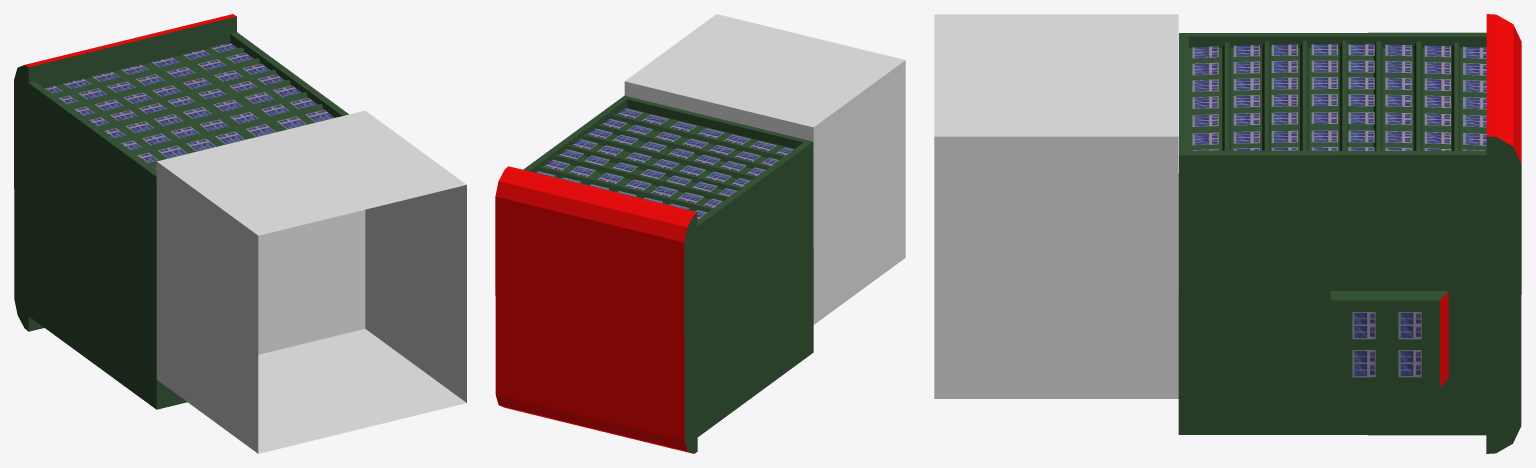
Rendered from block_fat_01.FBX.
3 views of the same model, side by side, from view 1: azimuth 30°, elevation 25°; view 2: azimuth 150°, elevation 25°; view 3: azimuth 270°, elevation 25° (orthographic). The views are drawn at different scales.
Visible parts, largest first — view 1: Plane002, building_8s_003, building_8s_004; view 2: building_8s_003, Plane002, building_8s_004; view 3: Plane002, building_8s_003, building_8s_004, Box1048.
Part boxes in pixels (x1=…): Plane002: x1=156, y1=110, x2=466, y2=453; building_8s_003: x1=14, y1=14, x2=348, y2=292; building_8s_004: x1=14, y1=189, x2=187, y2=409; building_8s_003: x1=495, y1=95, x2=813, y2=341; Plane002: x1=624, y1=14, x2=905, y2=324; building_8s_004: x1=495, y1=247, x2=813, y2=453; Plane002: x1=934, y1=14, x2=1178, y2=398; building_8s_003: x1=1179, y1=14, x2=1521, y2=294; building_8s_004: x1=1178, y1=173, x2=1521, y2=453; Box1048: x1=1330, y1=291, x2=1448, y2=387.
Bounding box in the file's own units: 32.31 × 36.34 × 60.85.
